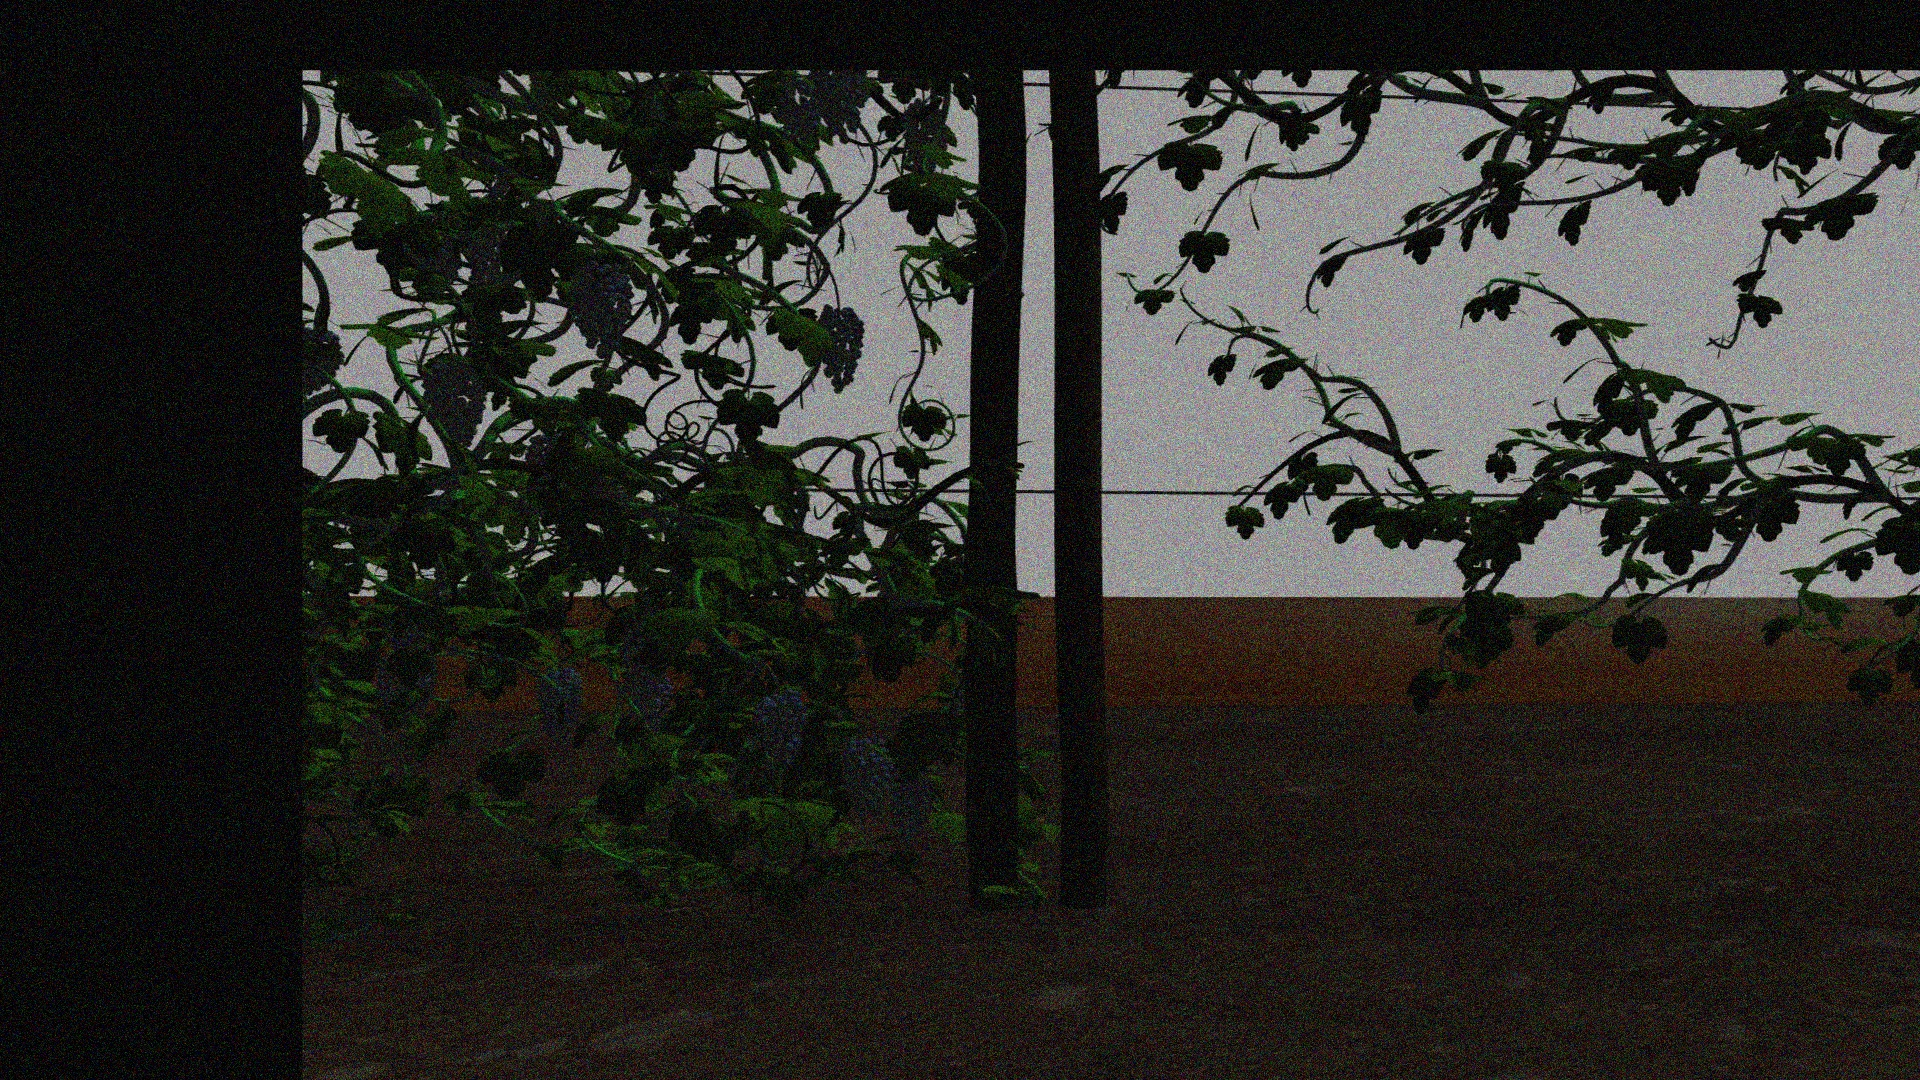grape: (568, 258, 633, 359), (418, 353, 488, 446), (752, 688, 811, 769), (839, 735, 890, 822), (814, 306, 864, 394), (812, 75, 869, 144), (533, 669, 583, 744), (887, 769, 936, 839), (902, 98, 944, 173), (628, 675, 674, 732), (773, 80, 818, 138), (465, 225, 506, 287), (620, 618, 653, 679)
